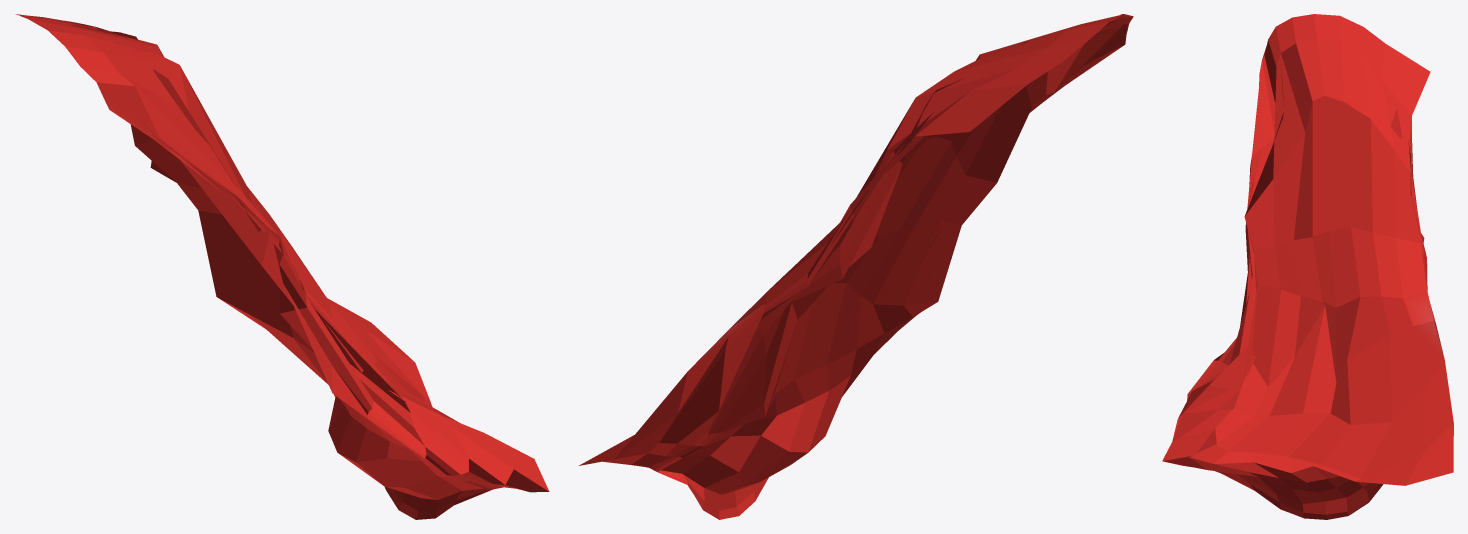
The model's file is Petal1_7.glb.
3 views of the same model, side by side, from view 1: azimuth 30°, elevation 25°; view 2: azimuth 150°, elevation 25°; view 3: azimuth 270°, elevation 25° (orthographic). The views are drawn at different scales.
Visible parts, largest first — view 1: Cube; view 2: Cube; view 3: Cube.
Boxes of the visible parts, <box> form: Cube: <box>15,14,549,519</box>; Cube: <box>579,14,1133,519</box>; Cube: <box>1162,14,1453,519</box>.
Bounding box in the file's own units: 18.21 × 22.96 × 15.68.
